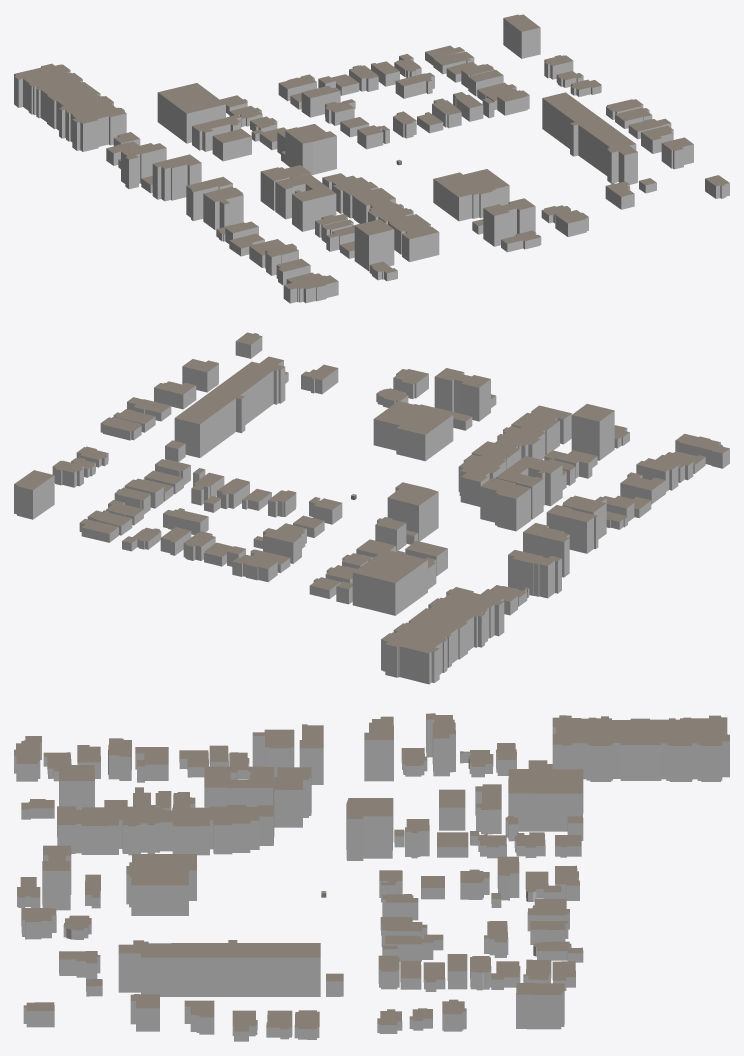
Rendered from city1.glb.
3 renders of one model, top to bottom at view 1: azimuth 30°, elevation 25°; view 2: azimuth 150°, elevation 25°; view 3: azimuth 270°, elevation 25°, orthographic. The views are drawn at different scales.
Parts seen in each view (by area): view 1: map_3.osm_buildings; view 2: map_3.osm_buildings; view 3: map_3.osm_buildings.
Boxes of the visible parts, x1,y1,x2,y2 form: map_3.osm_buildings: (14, 14, 729, 303); map_3.osm_buildings: (14, 332, 729, 684); map_3.osm_buildings: (14, 713, 729, 1041).
Size of the model in its own units: 276 by 21.25 by 288.
Materials: 3 (1 with a texture image).
